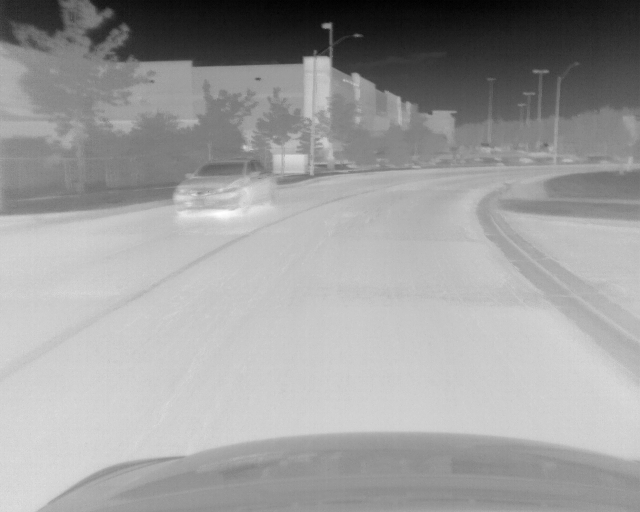car: (173, 158, 278, 215)
